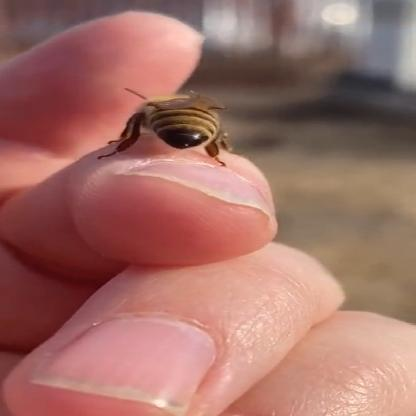bee: (60, 66, 276, 176)
